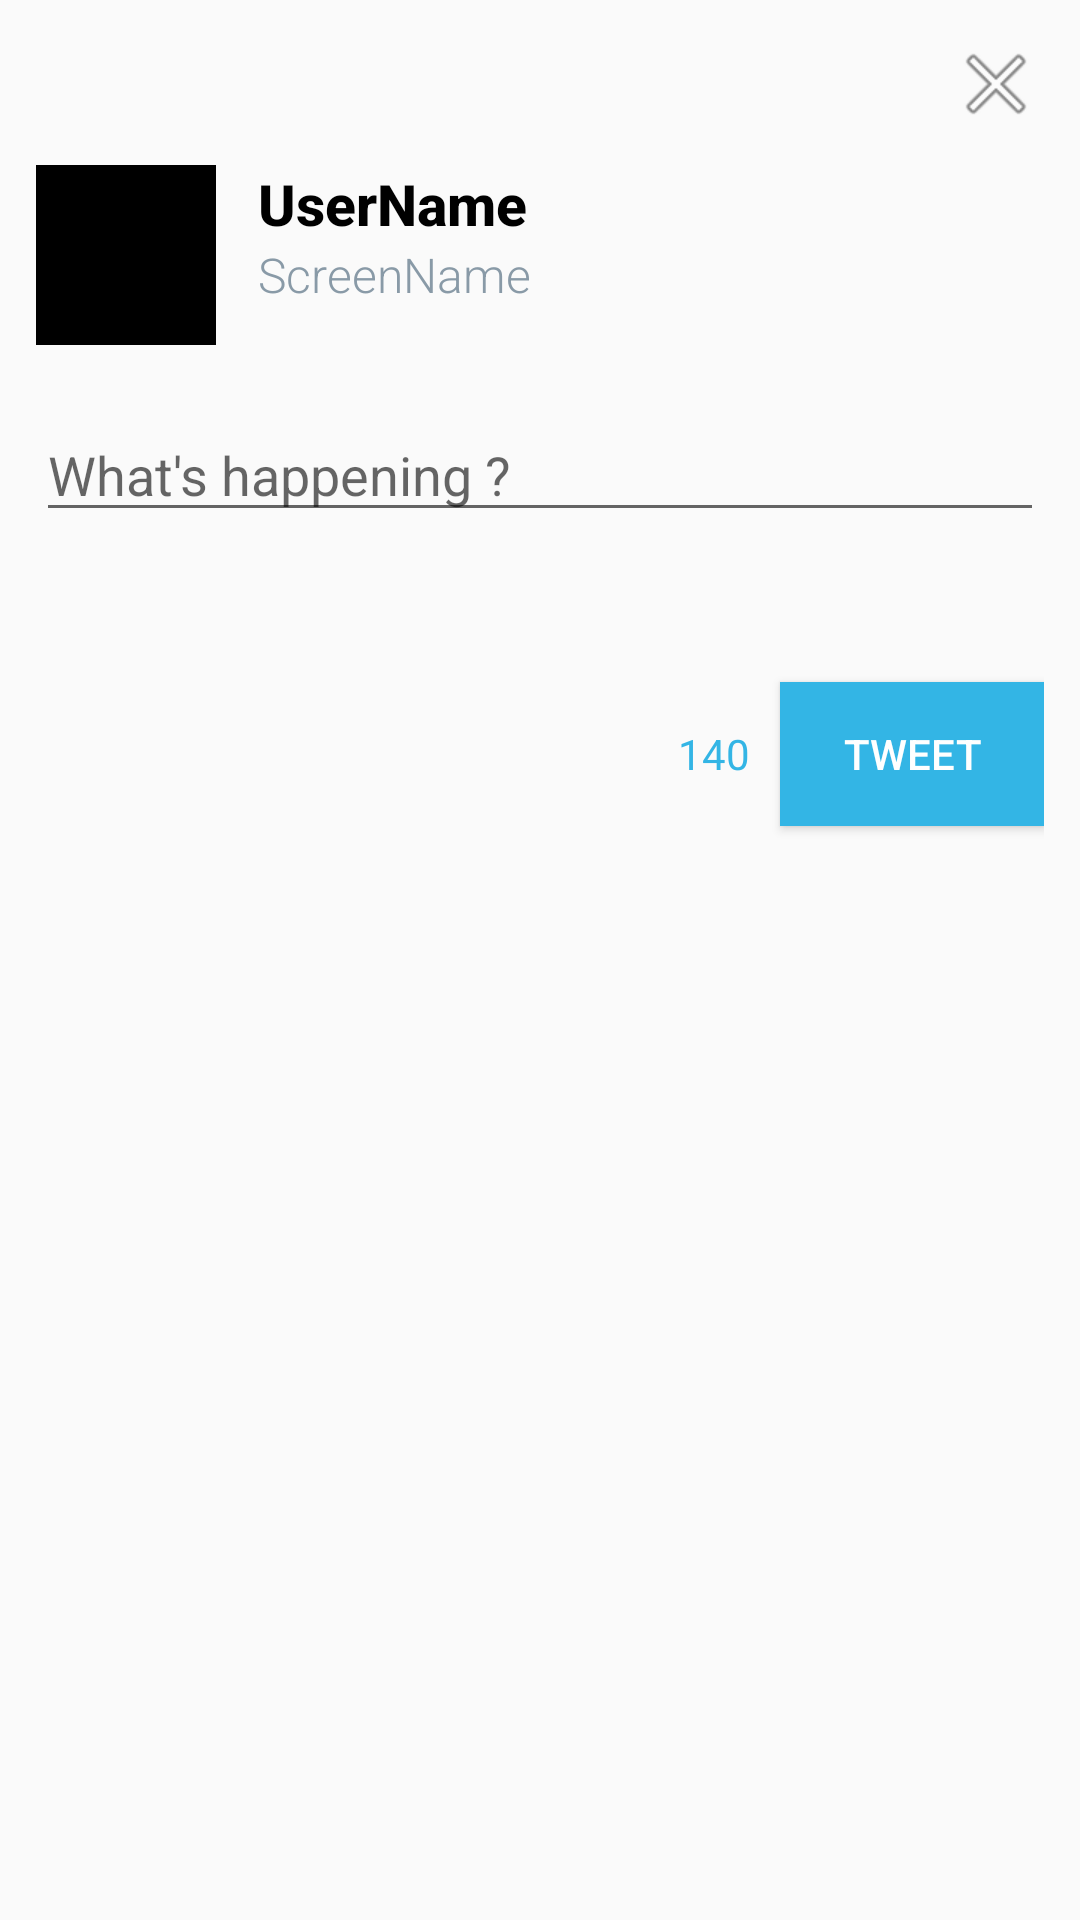

Icon click points for this 1080 x 1920 phone screenshot, format (x,y):
close clear cancel: (996,84)
